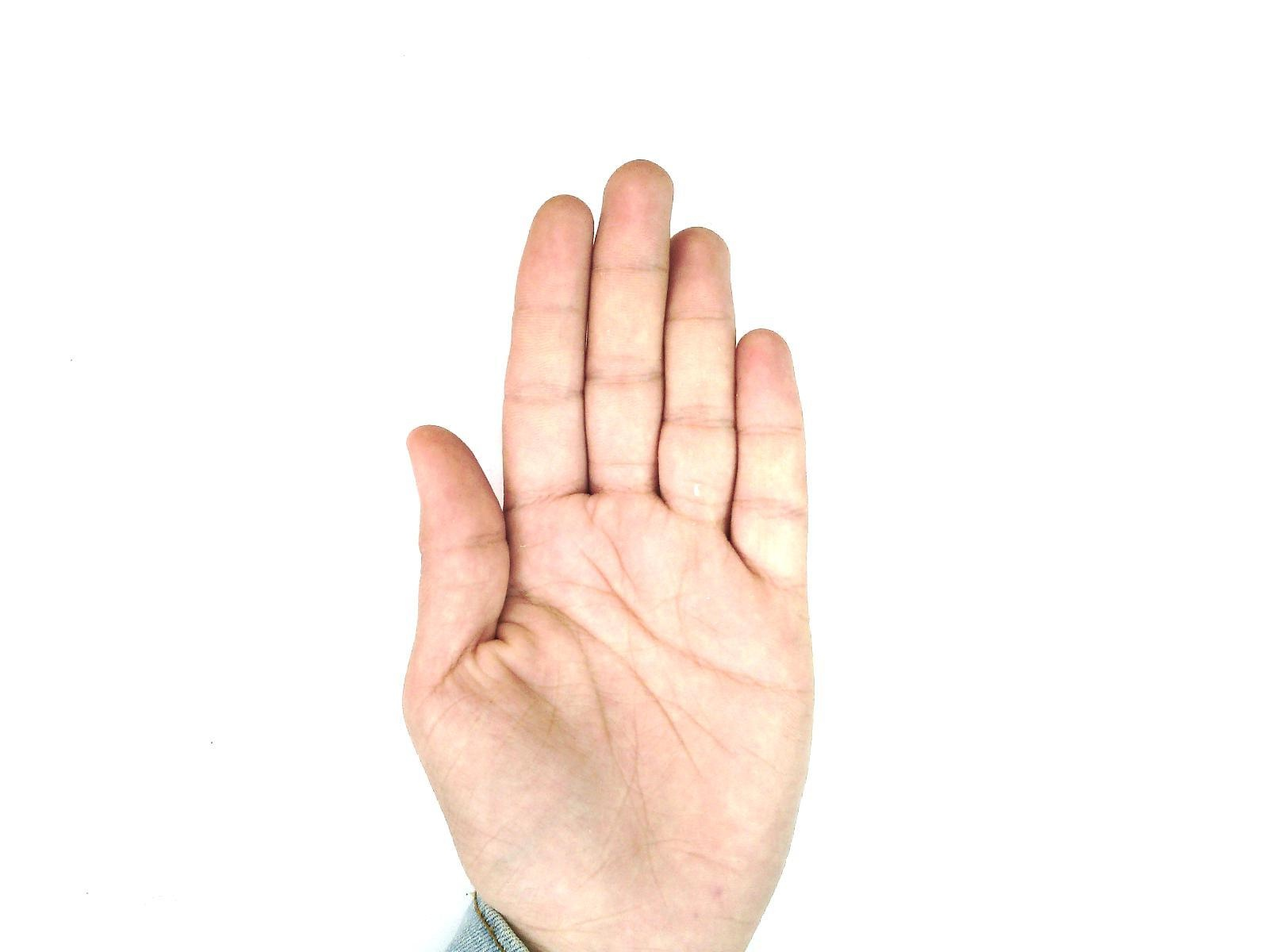open_palm: (399, 159, 819, 951)
